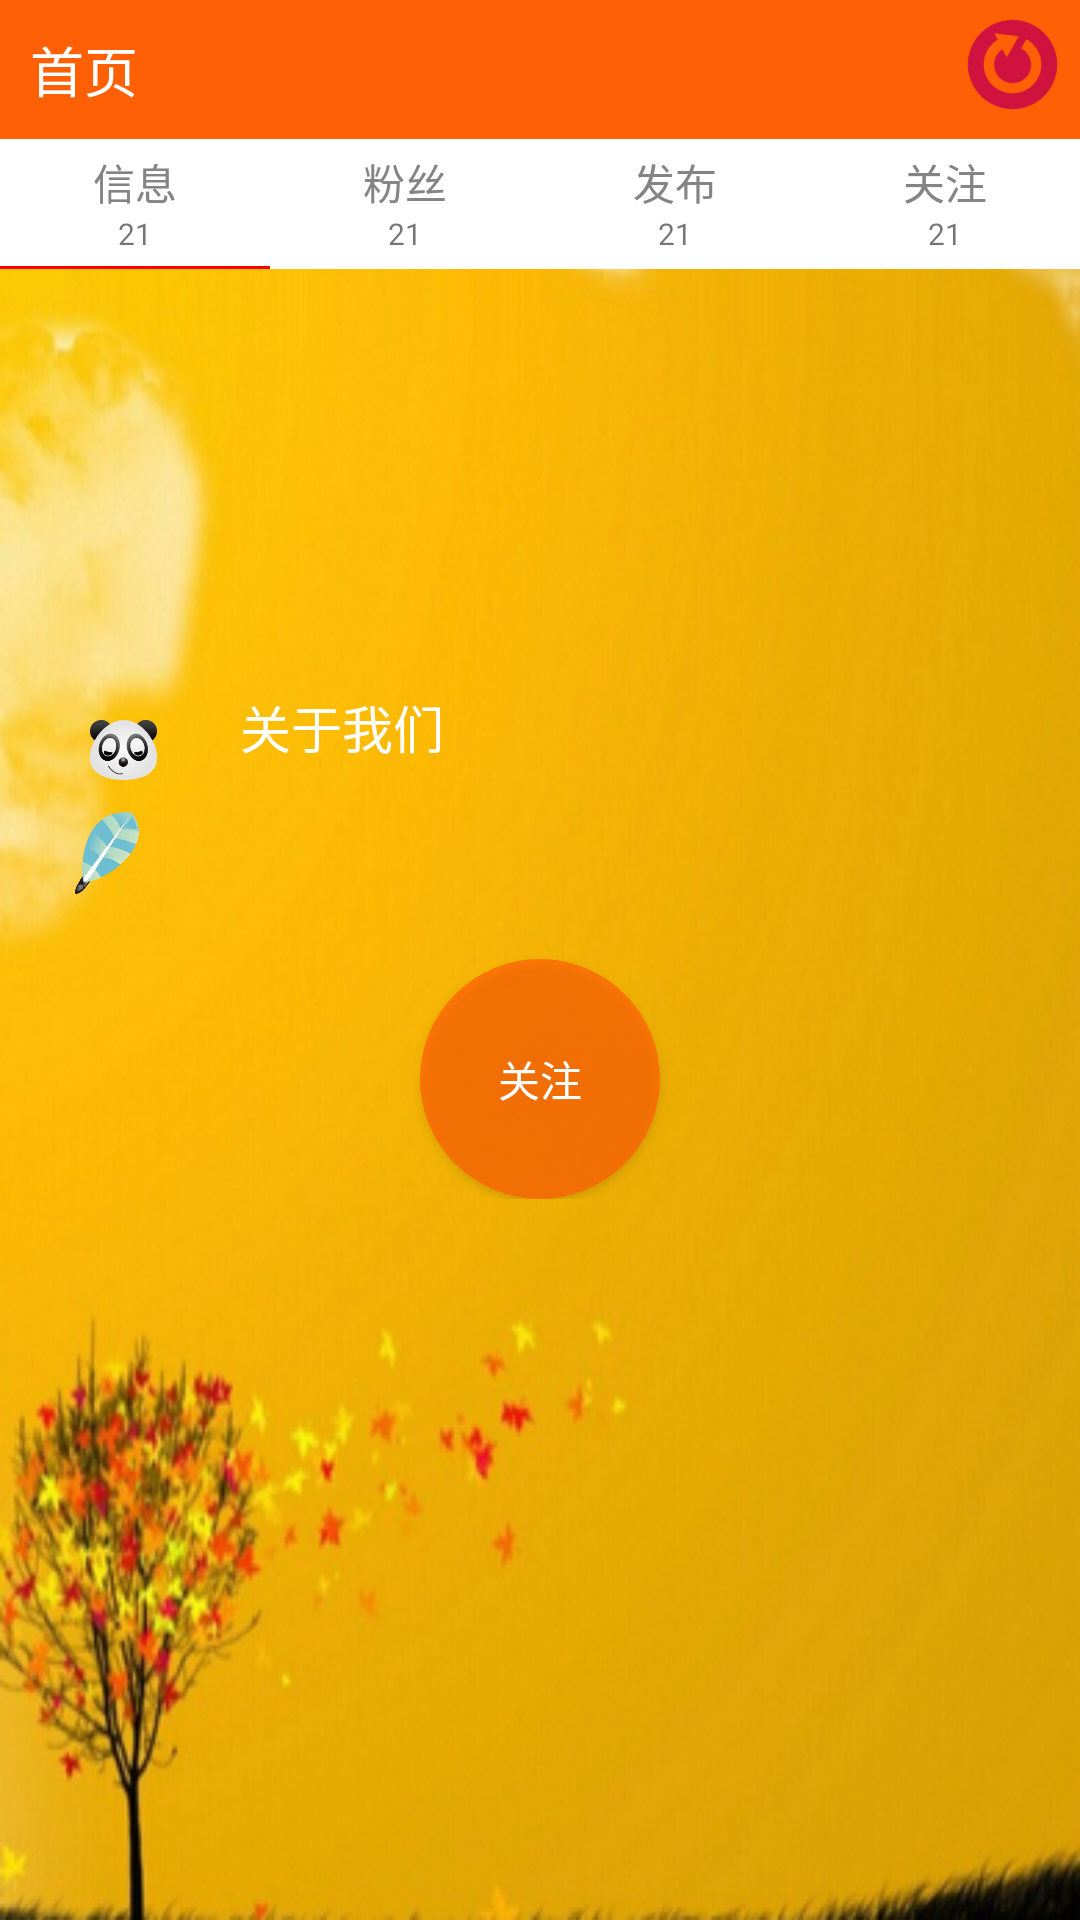

Where icons sit on this 1080 × 1920 app screen, as (x1, y1, x2, y2):
refresh: (968, 20, 1057, 109)
